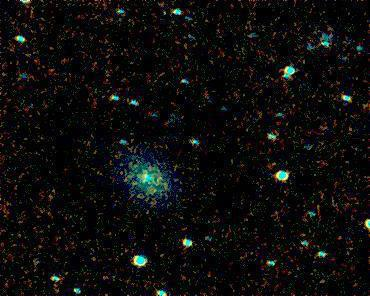star: (126, 160, 156, 190)
